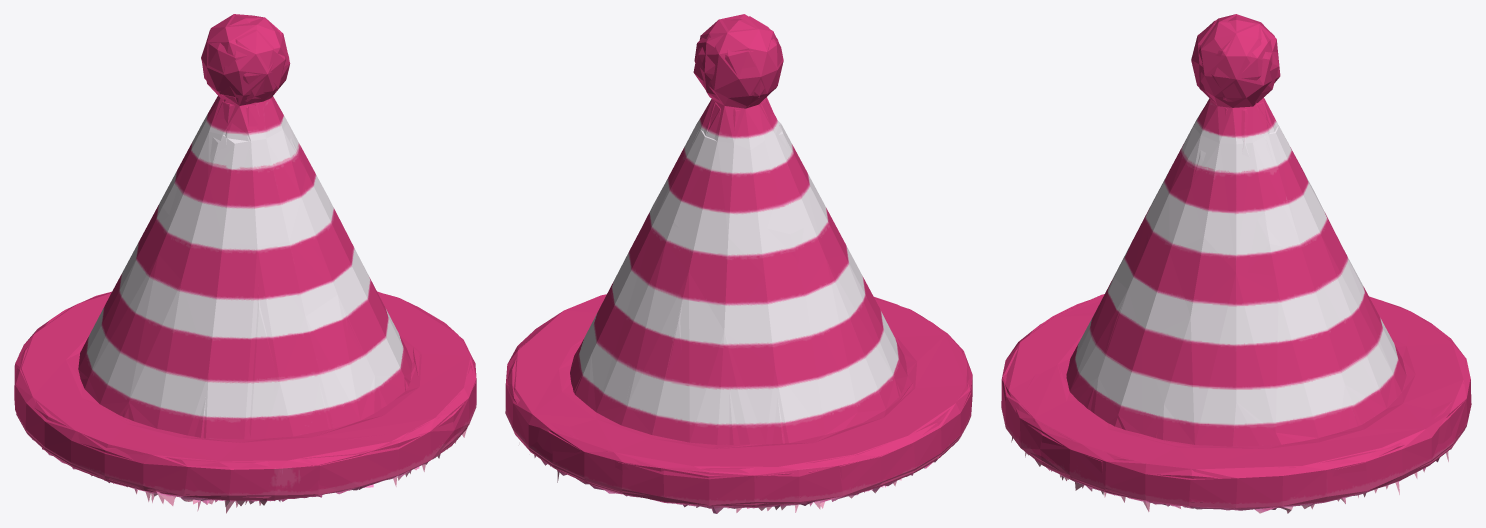
Rendered from hat-party-cone.glb.
The picture shows the model from 3 angles, left to right: view 1: azimuth 30°, elevation 25°; view 2: azimuth 150°, elevation 25°; view 3: azimuth 270°, elevation 25°; orthographic projection.
Parts seen in each view (by area): view 1: world; view 2: world; view 3: world.
Boxes of the visible parts, bbox=[...] form: world: bbox=[14, 14, 476, 513]; world: bbox=[505, 14, 972, 513]; world: bbox=[1001, 14, 1471, 513].
Size of the model in its own units: 0.4189 by 0.4 by 0.4189.
1 material, 1 textured.
